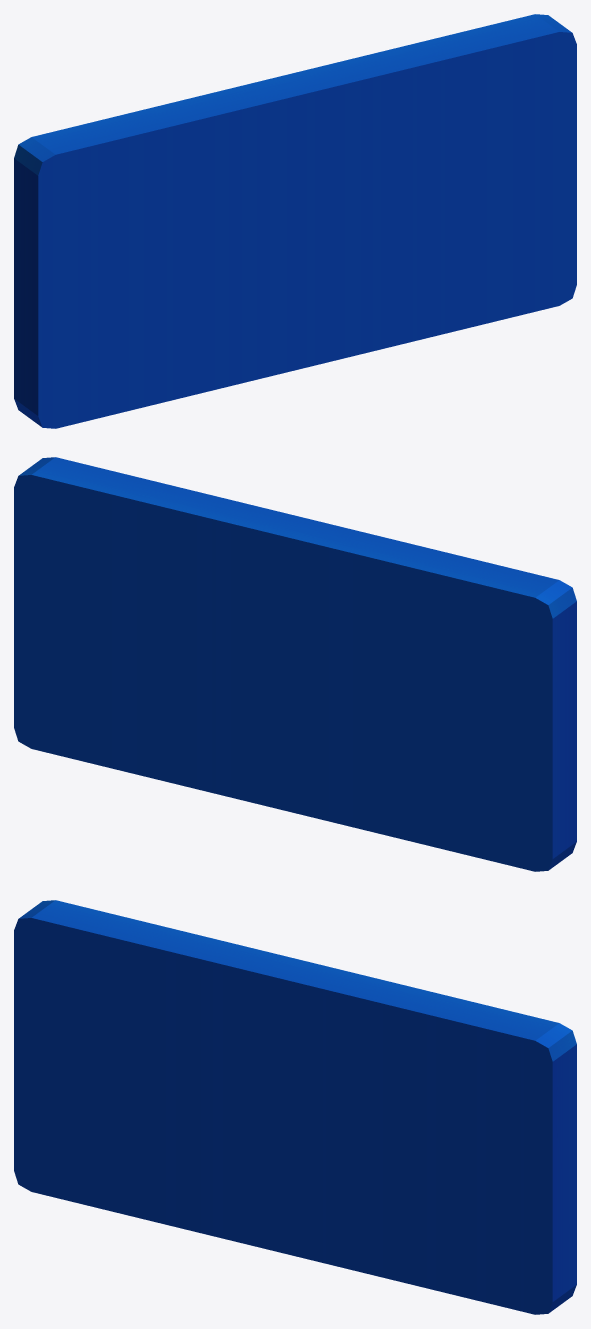
Rendered from DM_WallBinary 1.fbx.
3 views of the same model, one above another, from view 1: azimuth 30°, elevation 25°; view 2: azimuth 150°, elevation 25°; view 3: azimuth 330°, elevation 25° (orthographic).
Visible parts, largest first — view 1: SM_BinaryWall; view 2: SM_BinaryWall; view 3: SM_BinaryWall.
Part boxes in pixels (left/top/right/bottom): SM_BinaryWall: left=14, top=14, right=576, bottom=428; SM_BinaryWall: left=14, top=457, right=576, bottom=871; SM_BinaryWall: left=14, top=900, right=576, bottom=1314.
Bounding box in the file's own units: 74.84 × 36.38 × 5.84.
